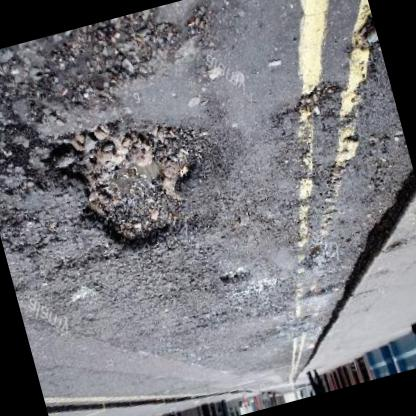pothole: (35, 95, 237, 275), (218, 266, 250, 288)
